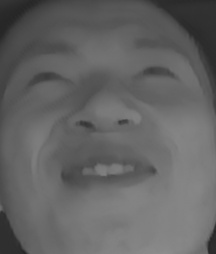eye: (131, 56, 180, 87), (20, 69, 80, 92)
mouth: (53, 139, 160, 199)
